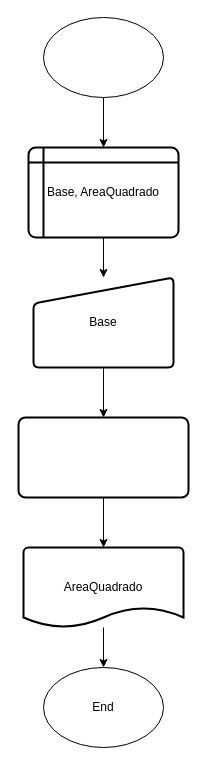
This 206x765 diagram has some shape labels left out. The centre of each missing label's shape, as x and y in pixels:
AreaQuadrado = Base * Base: [103,457]
Start: [103,57]
